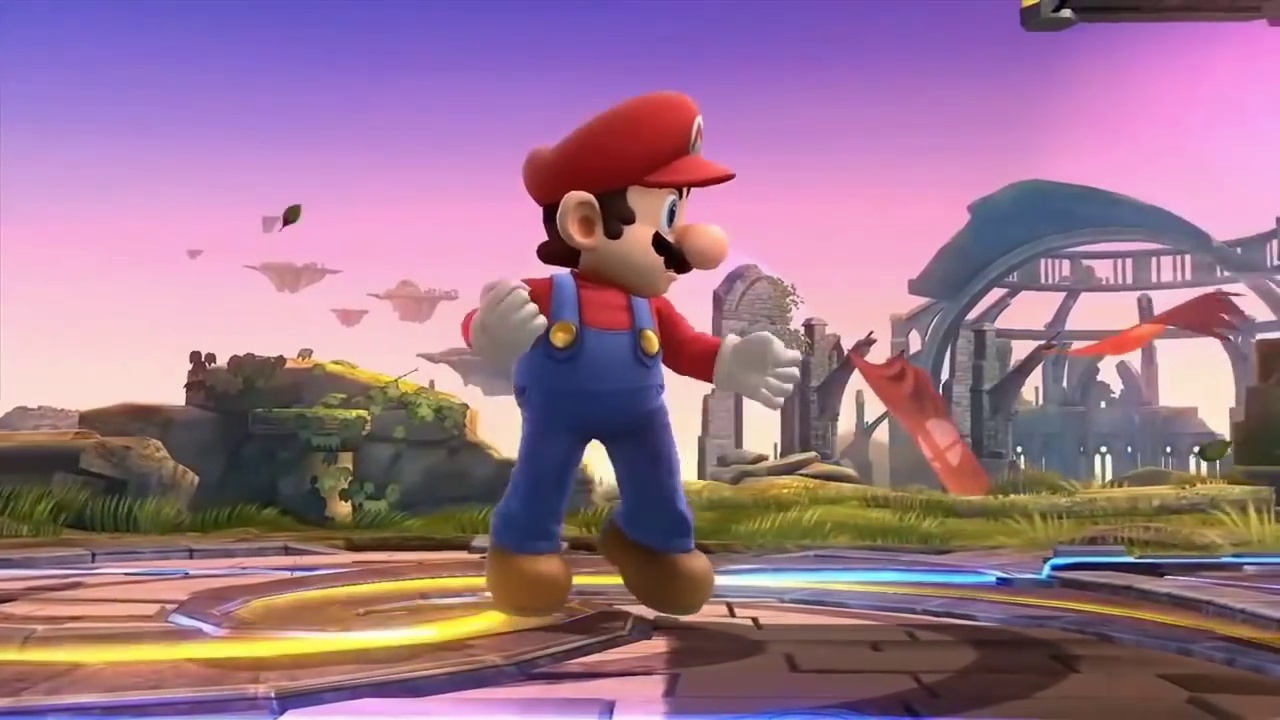Mario: (460, 89, 801, 617)
